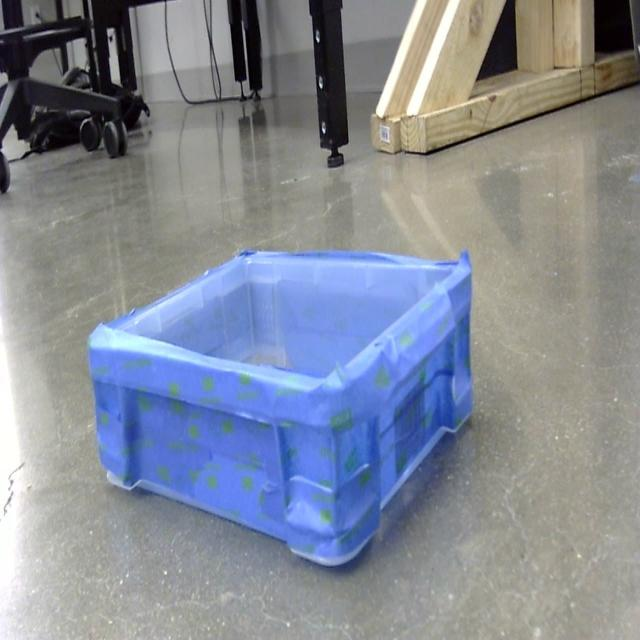bucket: (86, 251, 474, 572)
